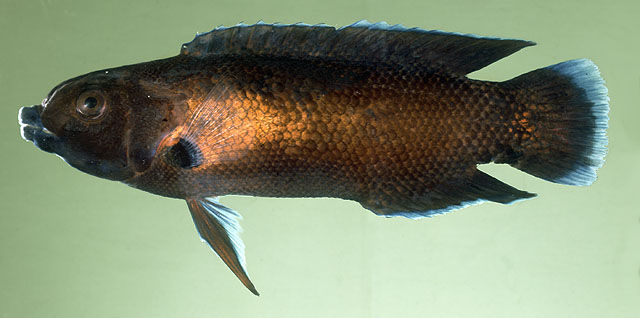fish: (17, 18, 609, 297)
